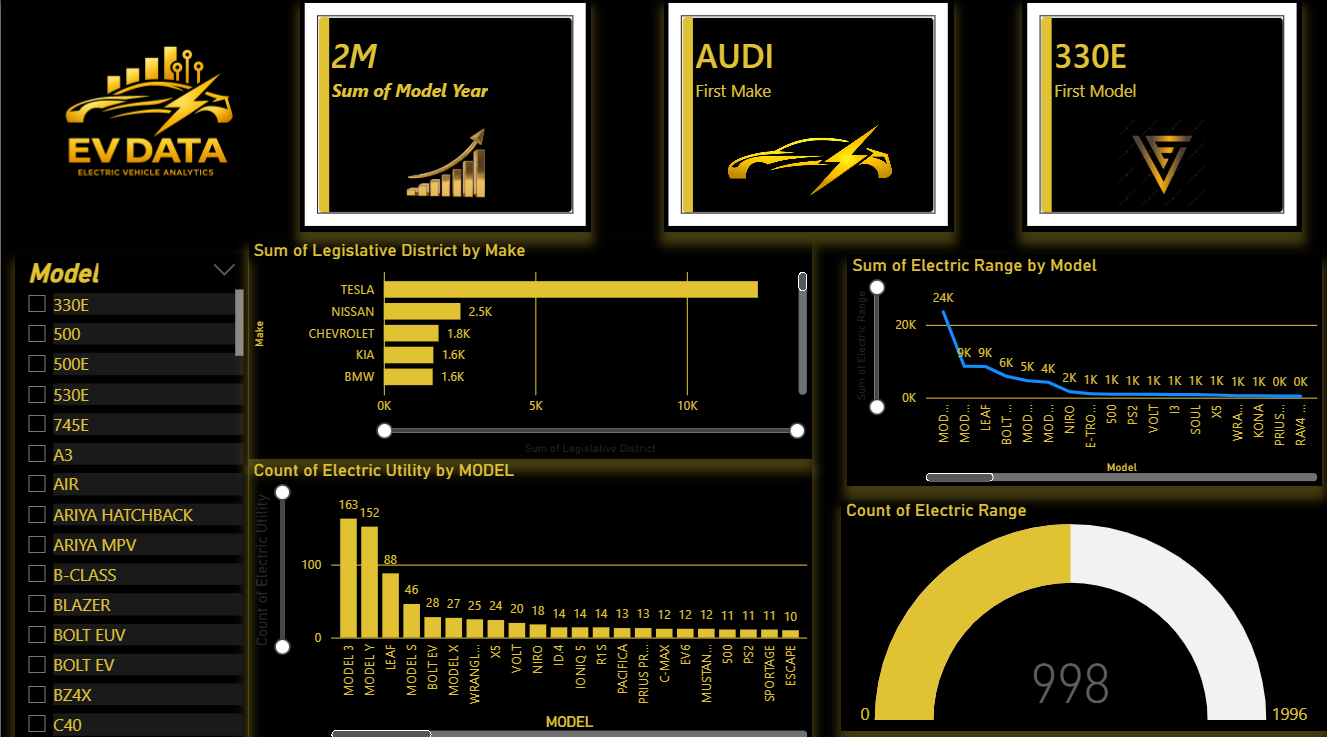

The page's visual inventory and layout, read from the dashboard file:
{"tool":"powerbi","page":{"name":"Page 1","canvas":[1280,720],"ordinal":0},"visuals":[{"type":"image","box":[0,0,288.3,246.1],"z":0},{"type":"cardVisual","fields":{"Data":["Sum(Sheet1.Model Year)"]},"box":[288.3,0,281.1,225.6],"z":1000},{"type":"columnChart","fields":{"Category":["Sheet1.Model"],"Y":["CountNonNull(Sheet1.Electric Utility)"]},"box":[238.9,445.2,544.1,275.1],"z":2000},{"type":"slicer","fields":{"Values":["Sheet1.Model"]},"box":[13.3,246.1,225.6,474.1],"z":3000},{"type":"cardVisual","fields":{"Data":["Min(Sheet1.Make)"]},"box":[639.4,0,279.9,225.6],"z":4000},{"type":"cardVisual","fields":{"Data":["Min(Sheet1.Model)"]},"box":[985.7,0,270.2,225.6],"z":5000},{"type":"clusteredBarChart","fields":{"Y":["Sum(Sheet1.Legislative District)"],"Category":["Sheet1.Make"]},"box":[238.9,232.8,544.1,212.3],"z":6000},{"type":"gauge","fields":{"Y":["CountNonNull(Sheet1.Electric Range)"]},"box":[810.7,483.8,469.3,223.2],"z":7000},{"type":"lineChart","fields":{"Category":["Sheet1.Model"],"Y":["Sum(Sheet1.Electric Range)"]},"box":[816.8,247.3,458.4,224.4],"z":8000}]}

Visuals, with their boxes in screenshot pixels (x1, y1, x2, y2), scaled from the page's 1280x720 canvas onto the 1327x737 screenshot:
image: 0 0 299 252
cardVisual - Sum(Sheet1.Model Year): 299 0 590 231
columnChart - Sheet1.Model x CountNonNull(Sheet1.Electric Utility): 248 456 812 736
slicer - Sheet1.Model: 14 252 248 736
cardVisual - Min(Sheet1.Make): 663 0 953 231
cardVisual - Min(Sheet1.Model): 1022 0 1302 231
clusteredBarChart - Sum(Sheet1.Legislative District) x Sheet1.Make: 248 238 812 456
gauge - CountNonNull(Sheet1.Electric Range): 840 495 1326 724
lineChart - Sheet1.Model x Sum(Sheet1.Electric Range): 847 253 1322 483
